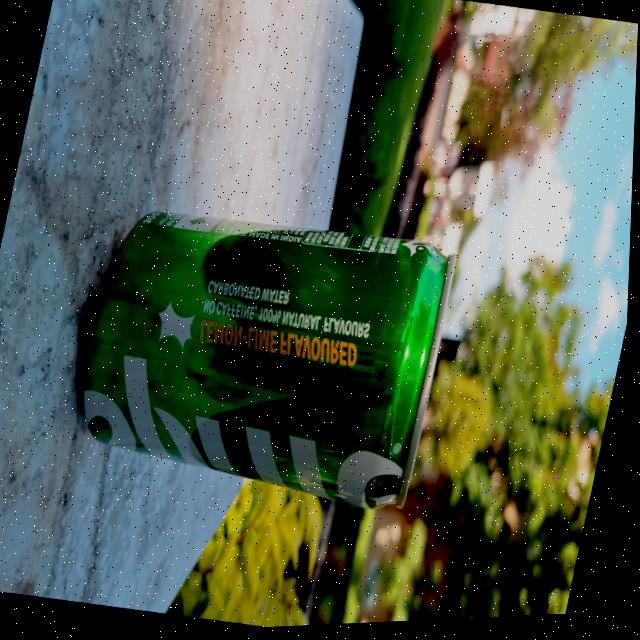Sprite: (58, 193, 465, 525)
